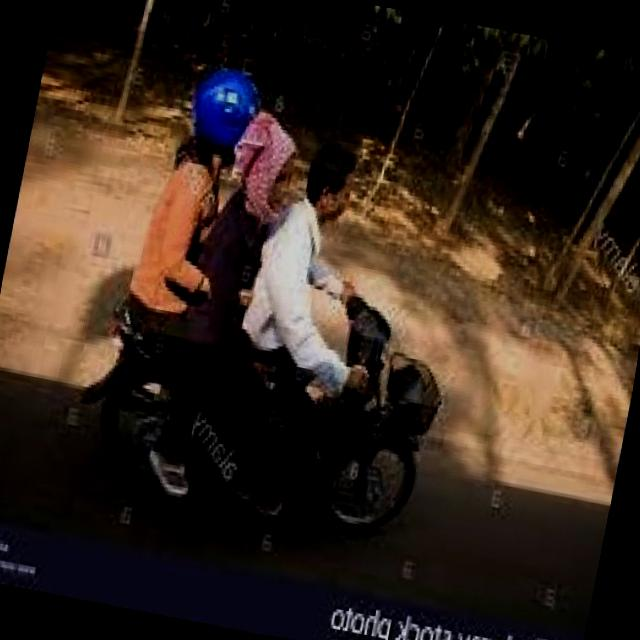motorcycle: (70, 246, 464, 548)
person: (102, 55, 266, 432), (238, 129, 392, 450), (174, 96, 318, 391)
rider_region: (74, 54, 492, 552)
